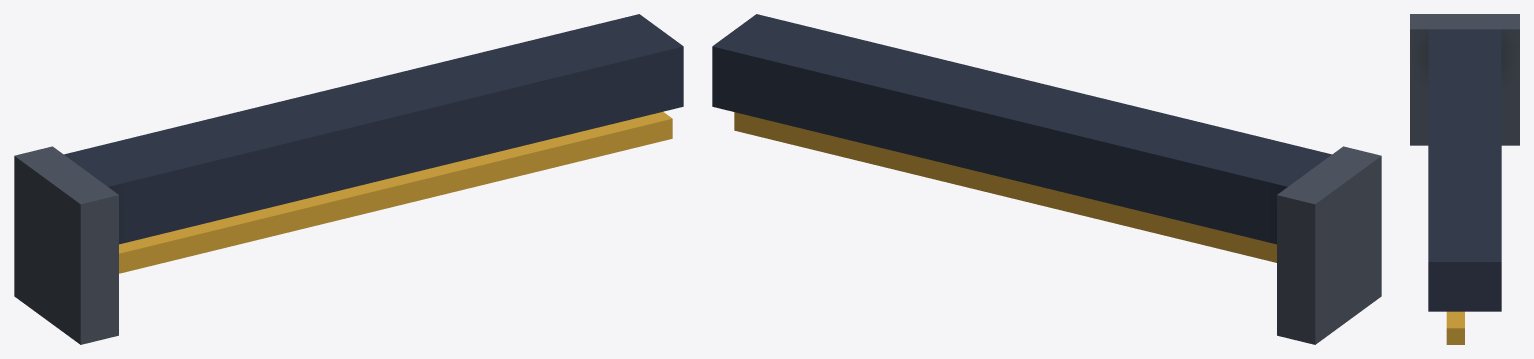
Rendered from pad_arm_e4.glb.
3 renders of one model, left to right at view 1: azimuth 30°, elevation 25°; view 2: azimuth 150°, elevation 25°; view 3: azimuth 270°, elevation 25°, orthographic. The views are drawn at different scales.
Parts seen in each view (by area): view 1: Base; view 2: Base; view 3: Base.
Part boxes in pixels (<box>): Base: <box>14,14,683,344</box>; Base: <box>712,14,1381,344</box>; Base: <box>1410,14,1519,344</box>.
Bounding box in the file's own units: 3.2 × 0.7 × 0.6.
